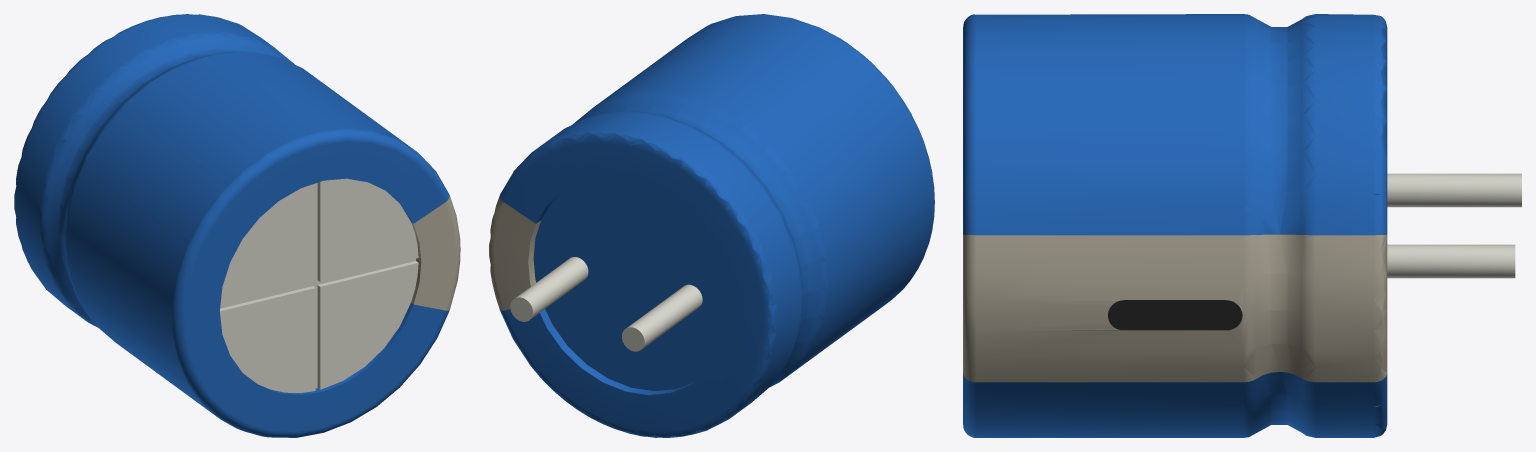
File: cp-radial-d6.3-p2.50.glb
3 renders of one model, left to right at view 1: azimuth 30°, elevation 25°; view 2: azimuth 150°, elevation 25°; view 3: azimuth 270°, elevation 25°, orthographic. The views are drawn at different scales.
Visible parts, largest first — view 1: PLASTIC-BLUE-01, PIN-01, IC-LABEL-01; view 2: PLASTIC-BLUE-01, PIN-01, IC-LABEL-01; view 3: PLASTIC-BLUE-01, IC-LABEL-01, PIN-01, IC-BODY-EPOXY-04.
Boxes of the visible parts, x1,y1,x2,y2 form: PLASTIC-BLUE-01: (14,14,449,437); PIN-01: (220,178,418,392); IC-LABEL-01: (411,195,460,310); PLASTIC-BLUE-01: (499,14,934,437); PIN-01: (510,257,702,351); IC-LABEL-01: (489,196,540,310); PLASTIC-BLUE-01: (963,14,1387,437); IC-LABEL-01: (963,234,1387,382); PIN-01: (1387,173,1521,278); IC-BODY-EPOXY-04: (1108,300,1242,330).
Bounding box in the file's own units: 6.29 × 6.29 × 8.3.
